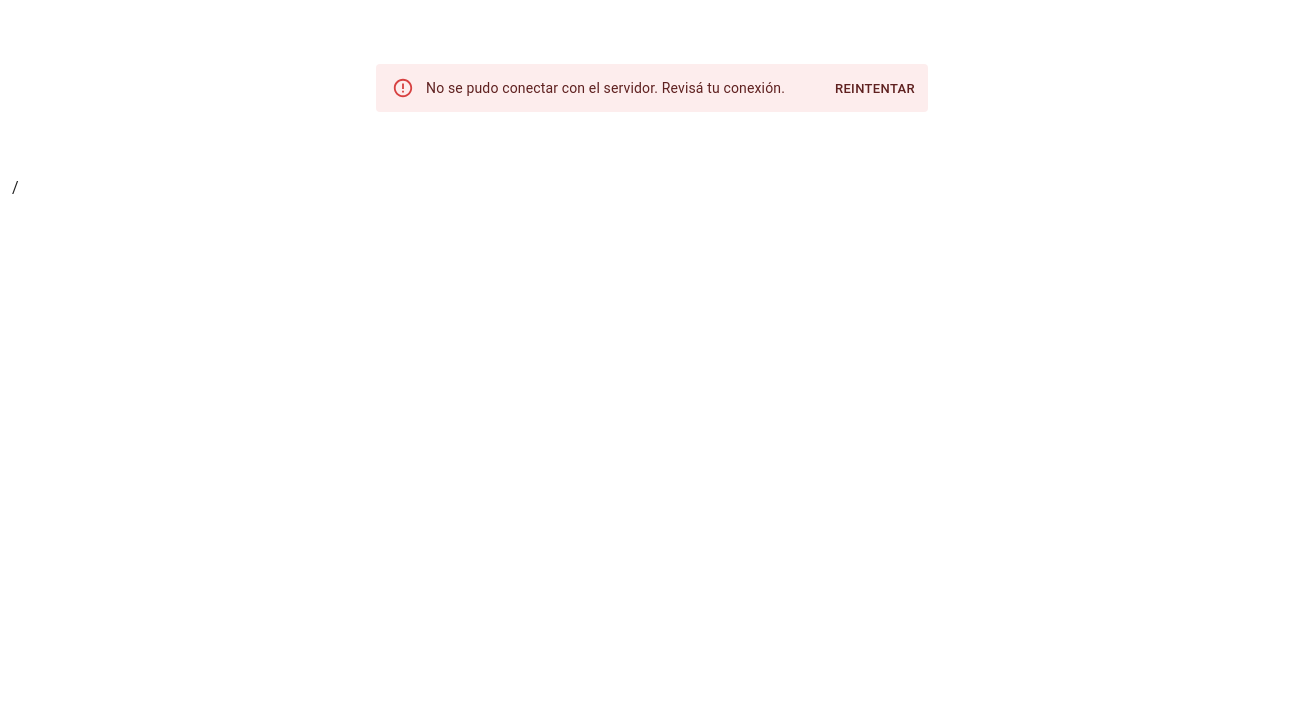
it: Sesión rechazada por la API › al reintentar con la conexión de vuelta se ve el inicio con el nombre del usuario
The image size is (1292, 720).
Click the button "Reintentar" at (875, 89), box [830, 74, 920, 105]
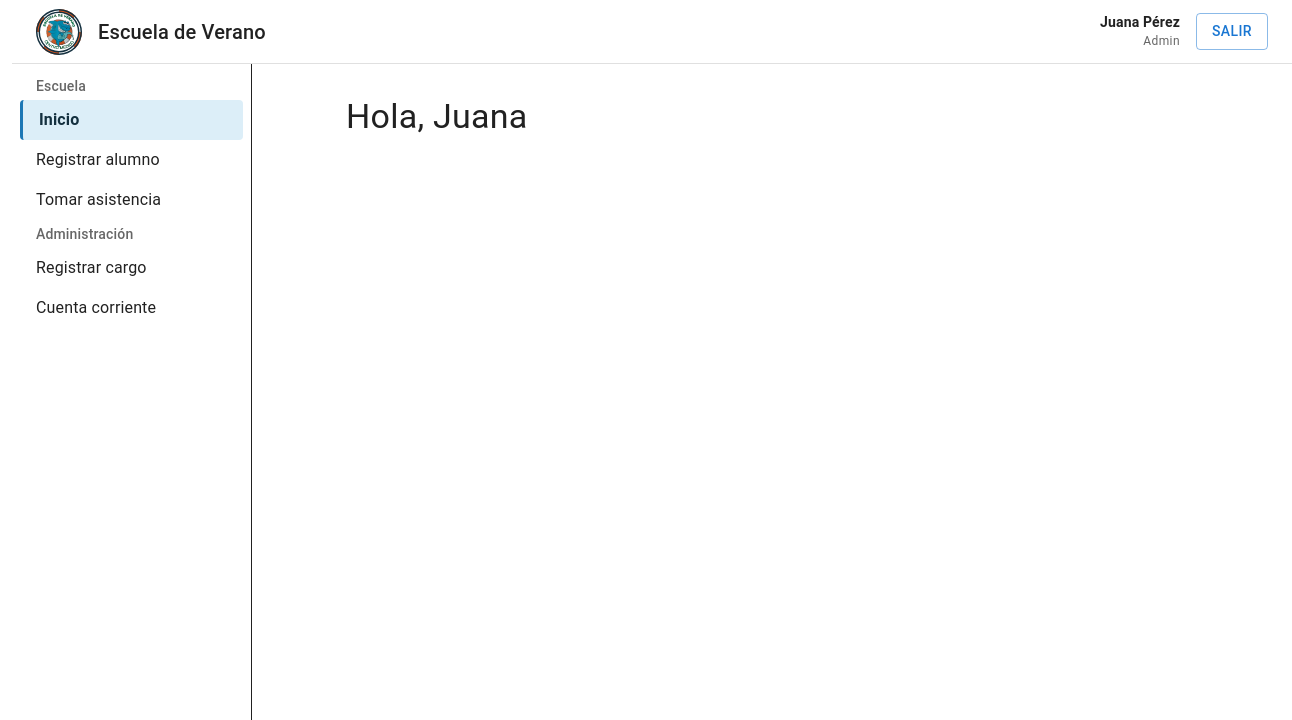
Expected: the text "Juana Pérez" is shown, [1100, 12, 1180, 32]
